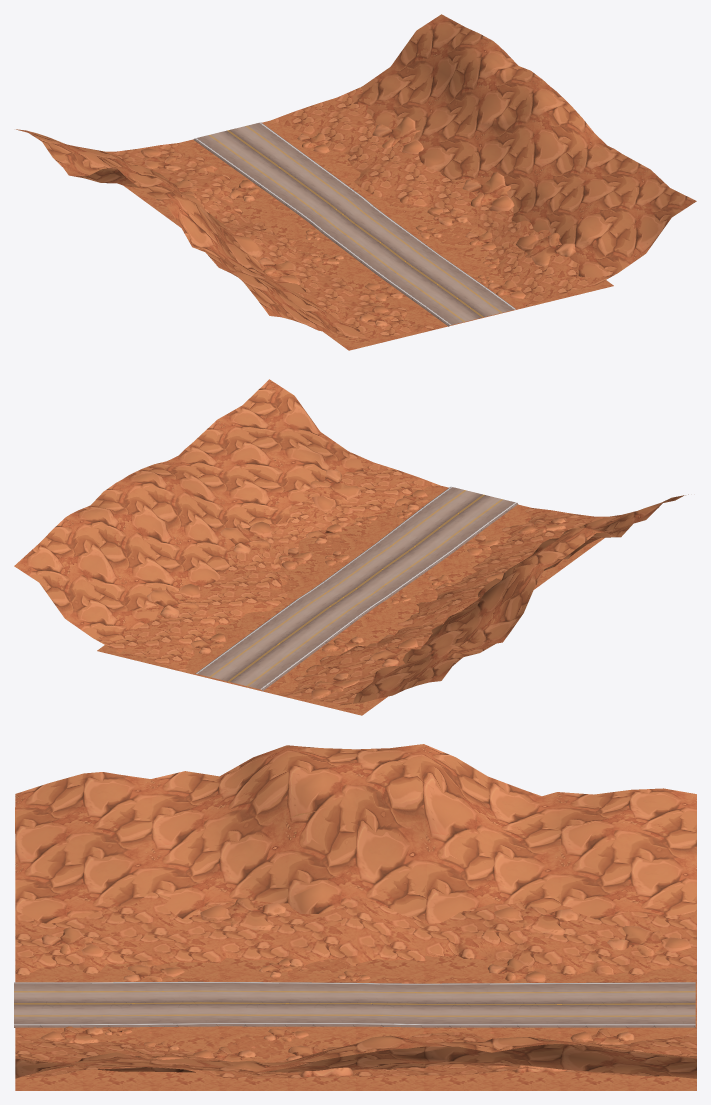
File: DesertTrack_50x50_merged.FBX
3 renders of one model, top to bottom at view 1: azimuth 30°, elevation 25°; view 2: azimuth 150°, elevation 25°; view 3: azimuth 270°, elevation 25°, orthographic. The views are drawn at different scales.
Visible parts, largest first — view 1: Tile50x50; view 2: Tile50x50; view 3: Tile50x50.
Boxes of the visible parts, bbox=[...] form: Tile50x50: bbox=[16, 14, 696, 350]; Tile50x50: bbox=[14, 379, 688, 715]; Tile50x50: bbox=[14, 744, 696, 1090].
Size of the model in its own units: 49.07 by 10.17 by 50.09.
2 materials, 2 textured.
